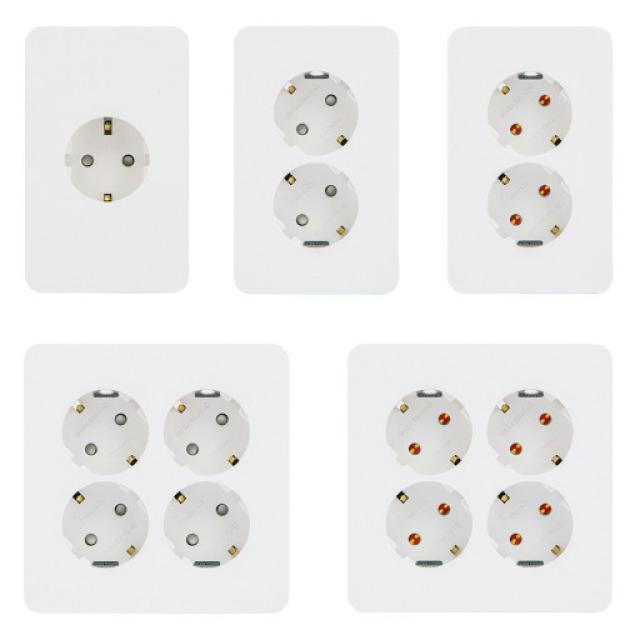typeb: (326, 334, 622, 622), (11, 339, 300, 618), (218, 19, 414, 314), (433, 21, 624, 306), (11, 23, 203, 300)
